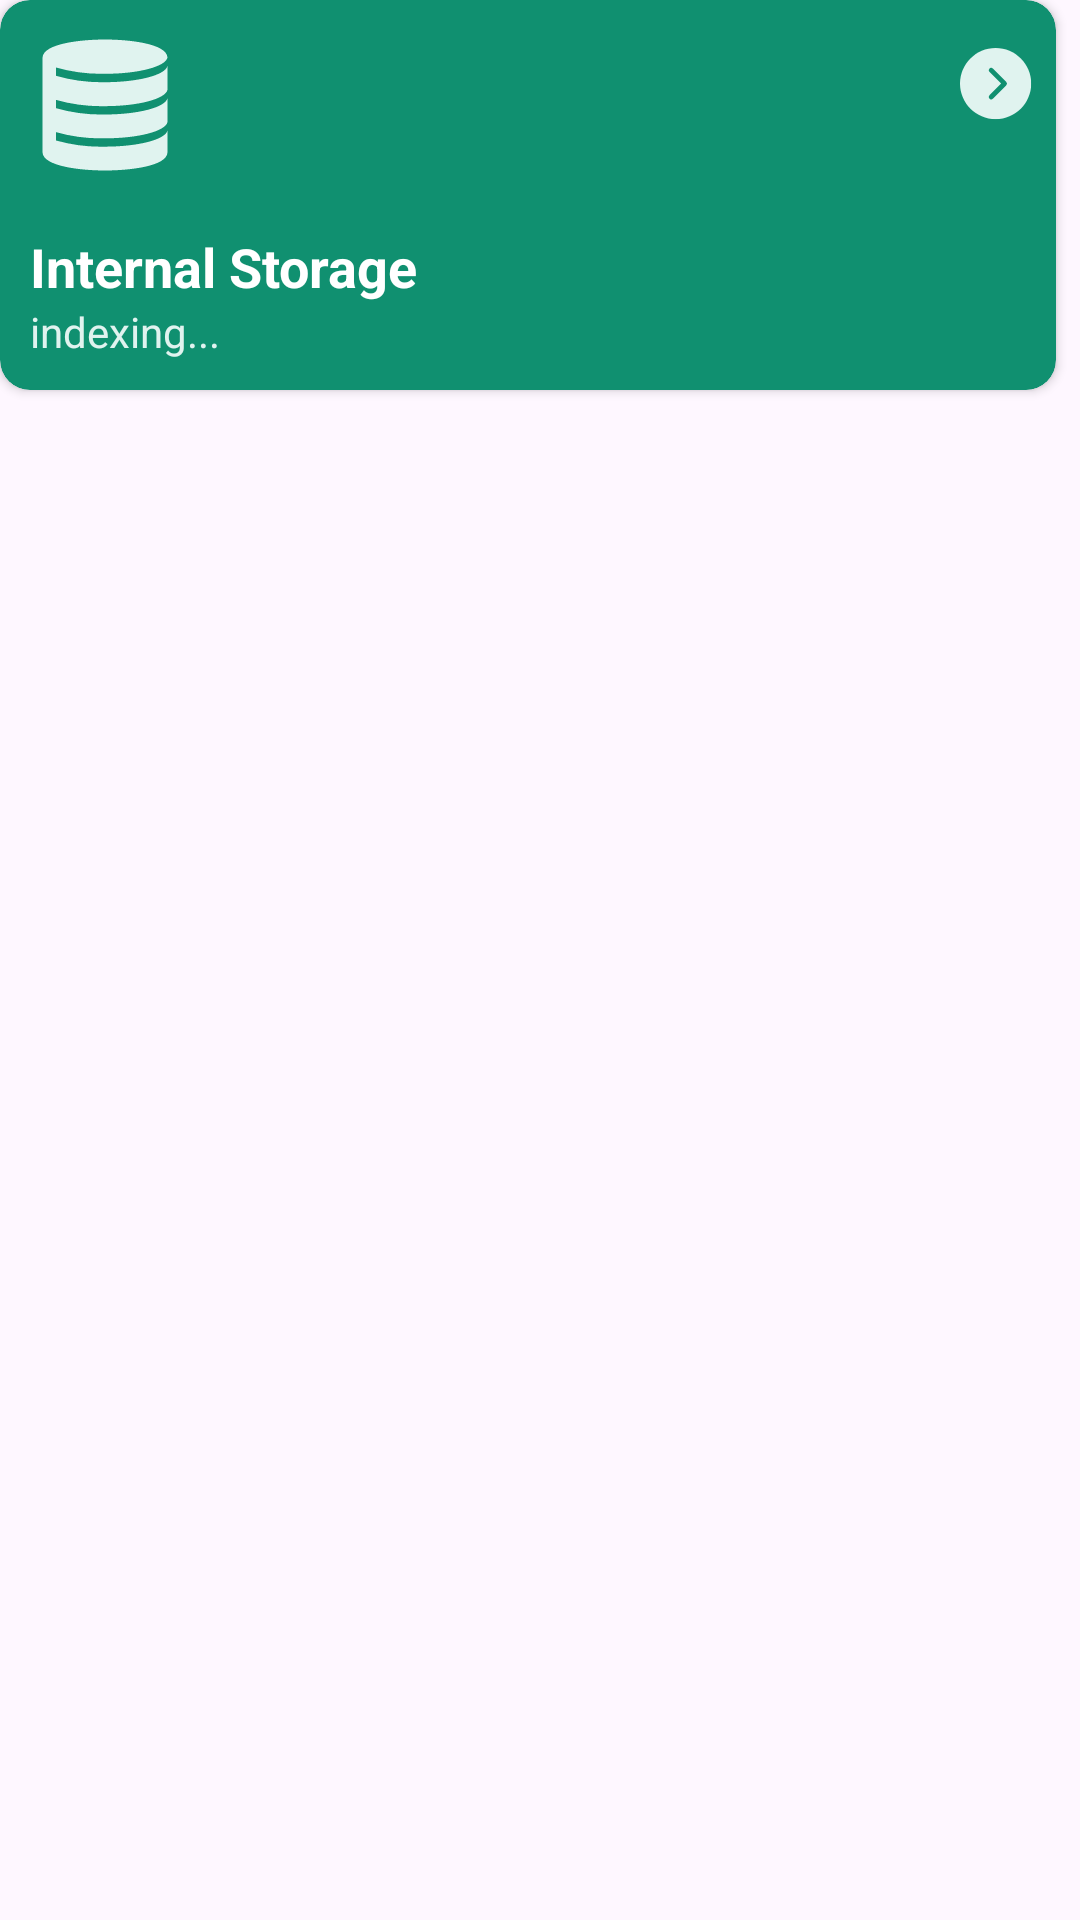

Screen size 1080×1920. Icon name, then its center in pixels as [x,y]:
arrow: [995,83]
clarity storage: [105,105]
